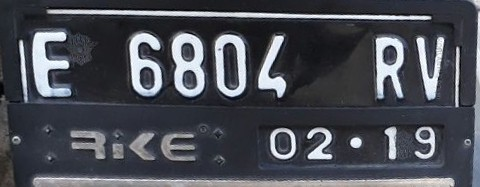plate: (14, 3, 462, 177)
